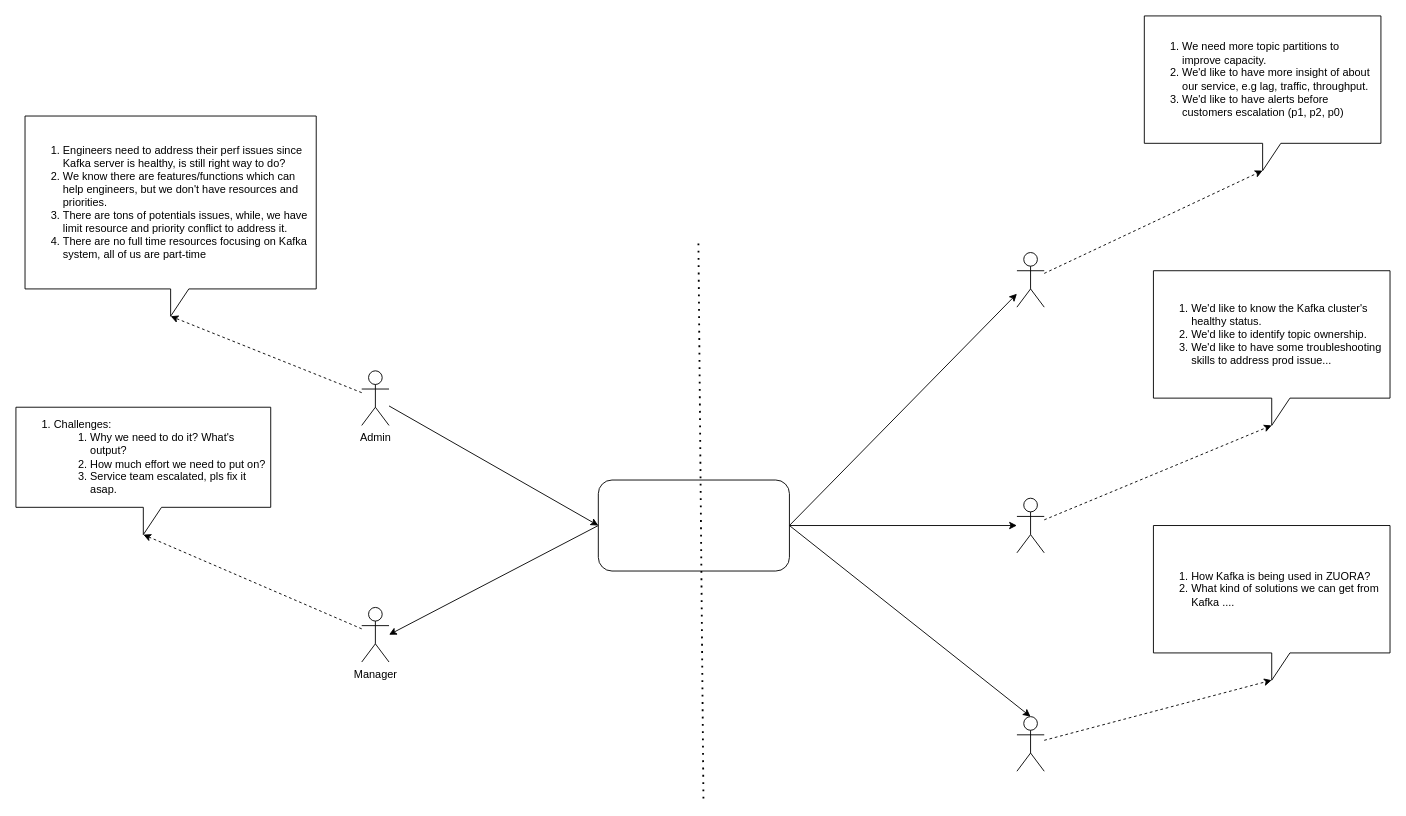
This 1406x816 diagram has some shape labels left out. Here are the shapes that lost their labels. From the top down, the centre of each, then its label:
At (1030,279): "Engineer".
At (693,525): "Kafka System".
At (1030,525): "SRE".
At (1030,743): "Architect".
